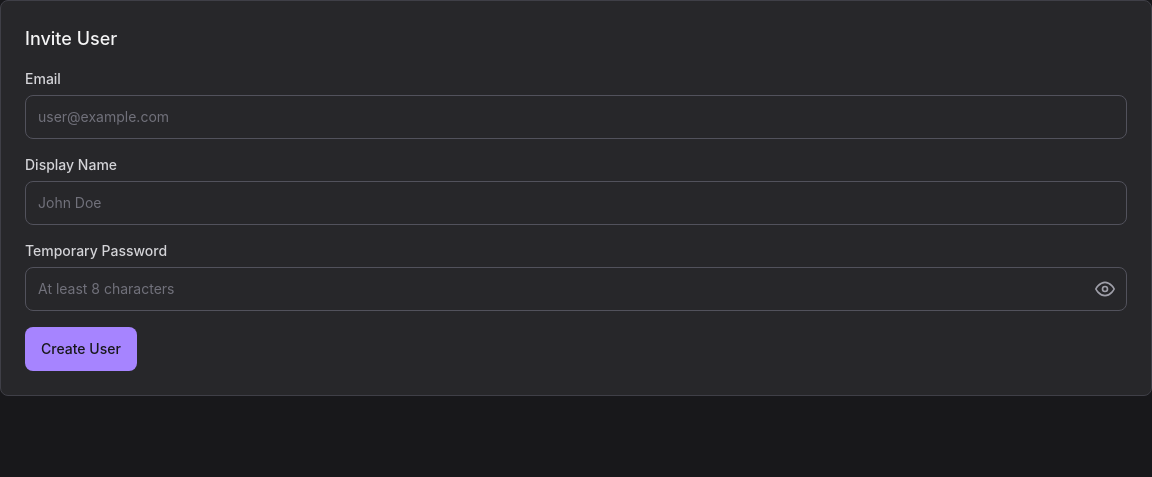
Test: Feature Gap Tests › InviteUserForm email validation › shows validation error for invalid email format
This screenshot has width=1152, height=477.
Type "not-an-email" into the field labelled "Email" at (576, 117), box [25,95,1127,139]
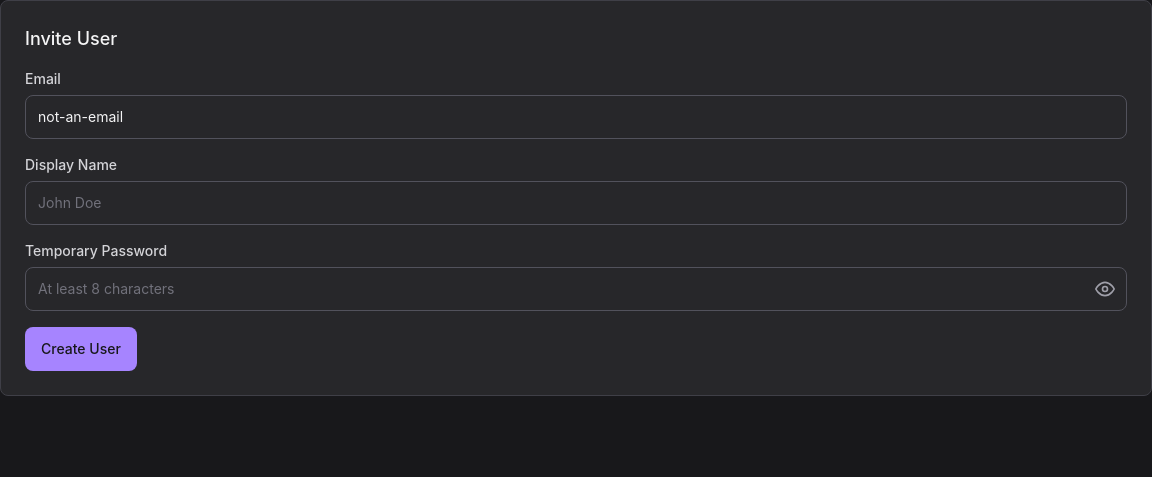
Type "Test User" into the field labelled "Display Name" at (576, 203), box [25,181,1127,225]
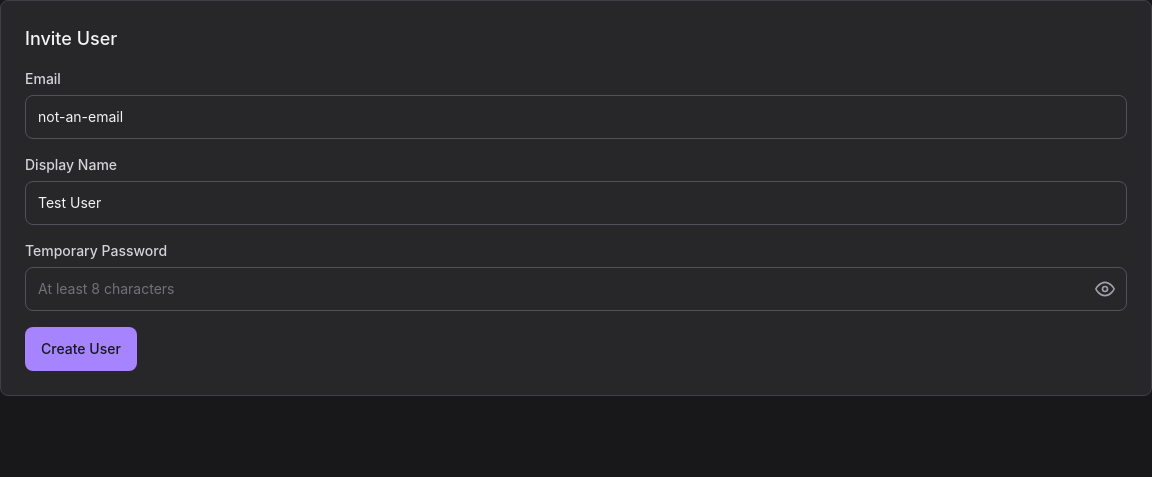
Type "password123" into the password field labelled "Temporary Password" at (576, 289), box [25,267,1127,311]
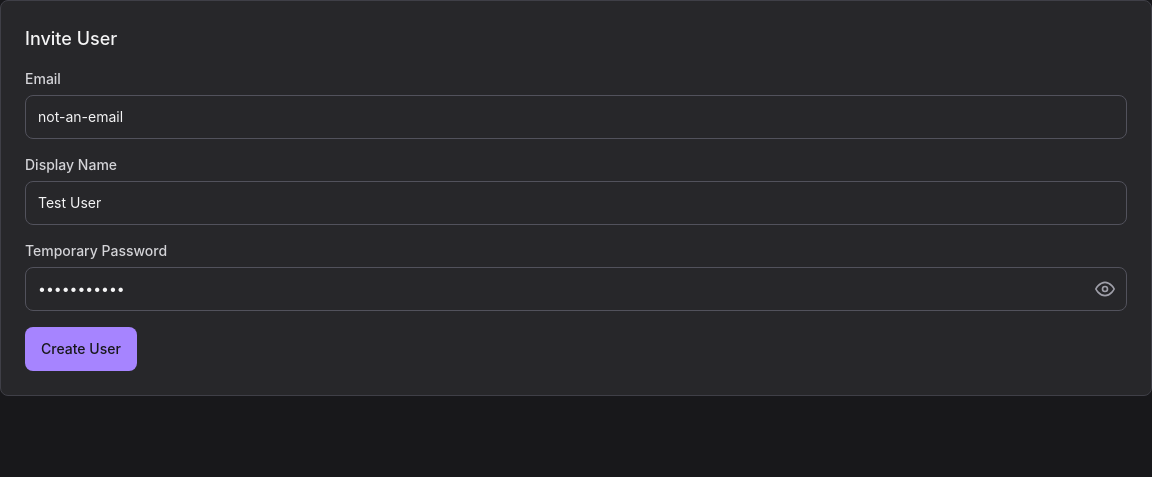
Submit the form
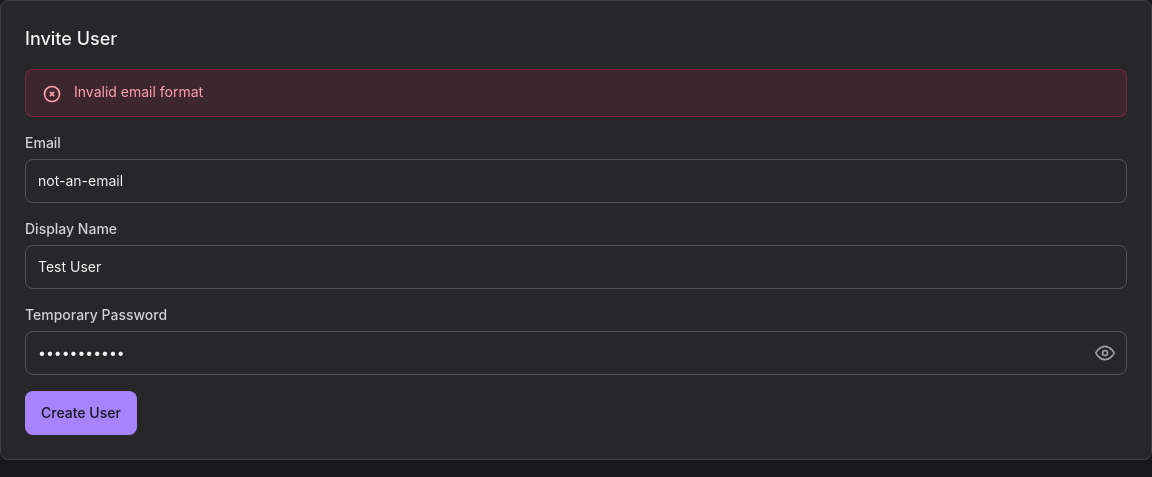
Check: the text "Invalid email format" is shown, box [74,82,203,102]
